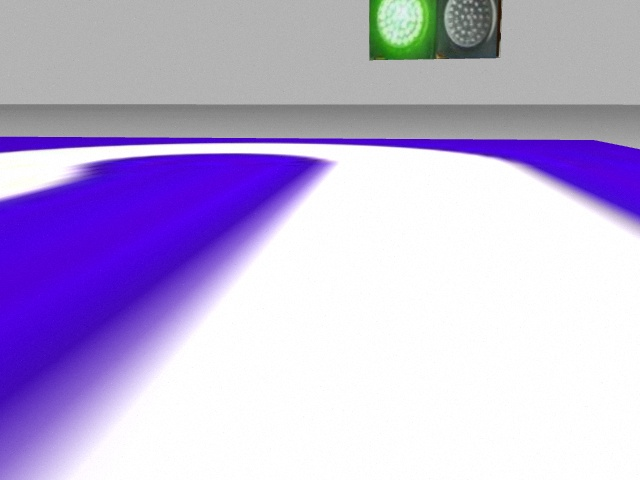green: (370, 1, 438, 57)
